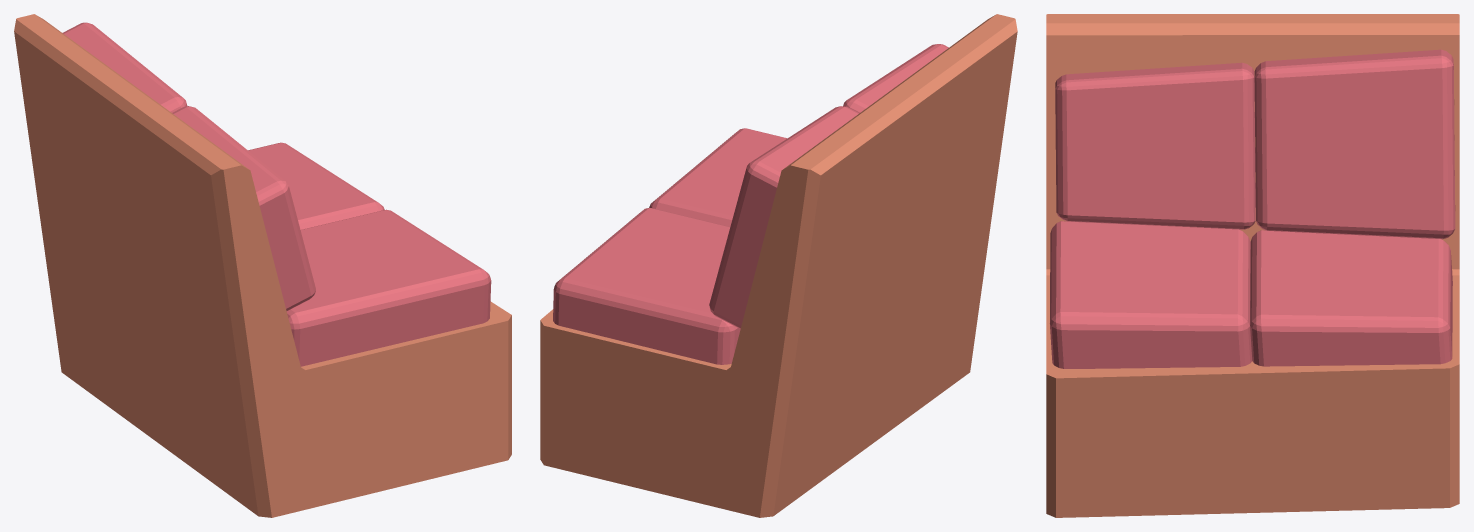
The model's file is Garden_Couch2.fbx.
The picture shows the model from 3 angles, left to right: view 1: azimuth 30°, elevation 25°; view 2: azimuth 150°, elevation 25°; view 3: azimuth 270°, elevation 25°; orthographic projection.
Parts seen in each view (by area): view 1: Cube, Cube.002, Cube.001; view 2: Cube, Cube.002, Cube.001; view 3: Cube, Cube.001, Cube.002.
Part boxes in pixels (x1=…): Cube: x1=14, y1=14, x2=511, y2=517; Cube.002: x1=248, y1=142, x2=491, y2=366; Cube.001: x1=63, y1=22, x2=315, y2=310; Cube: x1=540, y1=14, x2=1017, y2=517; Cube.002: x1=553, y1=128, x2=786, y2=364; Cube.001: x1=709, y1=44, x2=948, y2=328; Cube: x1=1046, y1=14, x2=1459, y2=517; Cube.001: x1=1055, y1=49, x2=1455, y2=239; Cube.002: x1=1050, y1=221, x2=1452, y2=368.
Bounding box in the file's own units: 354 × 404 × 421.
